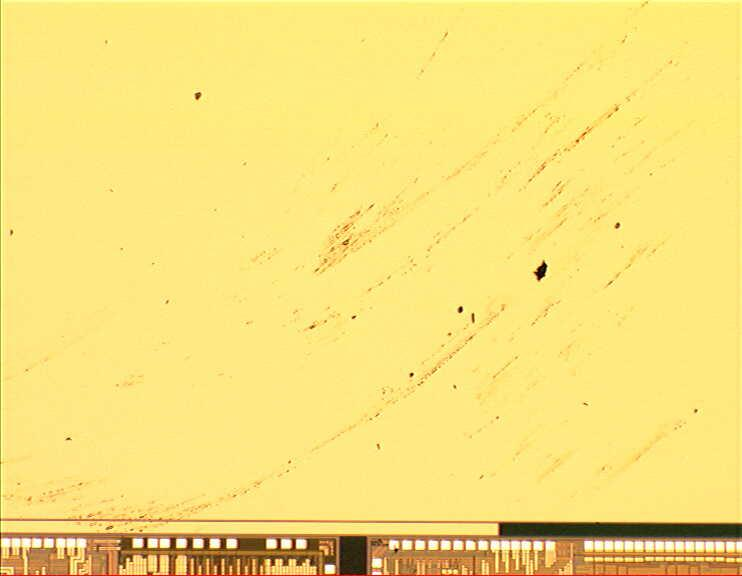SCRATCH: (1, 1, 710, 541)
